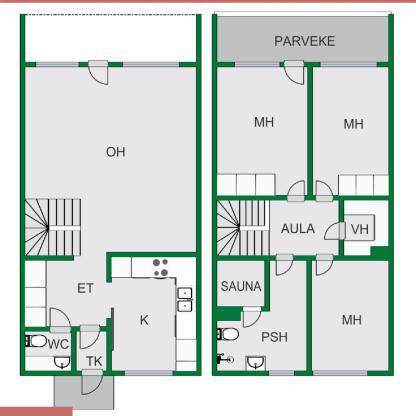door: (280, 61, 308, 87), (81, 367, 104, 396), (87, 61, 110, 88), (49, 307, 72, 334), (80, 324, 104, 348), (241, 307, 263, 329), (275, 253, 296, 275), (314, 180, 334, 203), (316, 254, 335, 278), (324, 222, 348, 241), (288, 180, 305, 201)
window: (123, 60, 179, 68), (124, 370, 172, 378), (233, 61, 281, 68), (318, 61, 374, 67), (314, 370, 366, 376), (35, 61, 79, 68), (268, 369, 294, 376)
zone: (26, 67, 196, 324), (218, 66, 307, 196), (112, 257, 198, 371), (219, 260, 308, 370), (314, 66, 388, 197), (310, 260, 390, 370), (216, 15, 390, 62), (24, 14, 195, 60), (218, 200, 337, 256), (342, 199, 388, 257), (218, 260, 264, 306), (24, 331, 71, 371), (76, 330, 106, 370)
